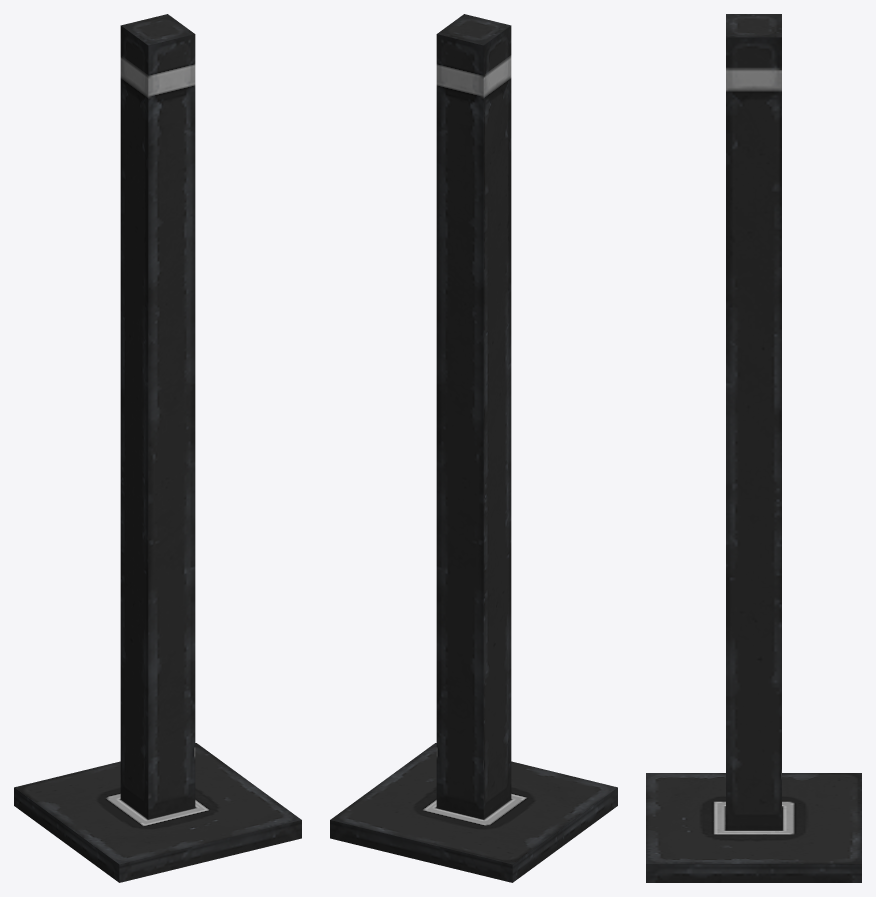
The model's file is HH_Stanchions_Tape.fbx.
3 renders of one model, left to right at view 1: azimuth 30°, elevation 25°; view 2: azimuth 150°, elevation 25°; view 3: azimuth 270°, elevation 25°, orthographic. The views are drawn at different scales.
Parts seen in each view (by area): view 1: HH_Stanchions_Tape; view 2: HH_Stanchions_Tape; view 3: HH_Stanchions_Tape.
Part boxes in pixels (left/top/right/bottom): HH_Stanchions_Tape: left=14, top=14, right=301, bottom=882; HH_Stanchions_Tape: left=330, top=14, right=617, bottom=882; HH_Stanchions_Tape: left=646, top=14, right=861, bottom=882.
Bounding box in the file's own units: 24.62 × 102 × 24.62.
